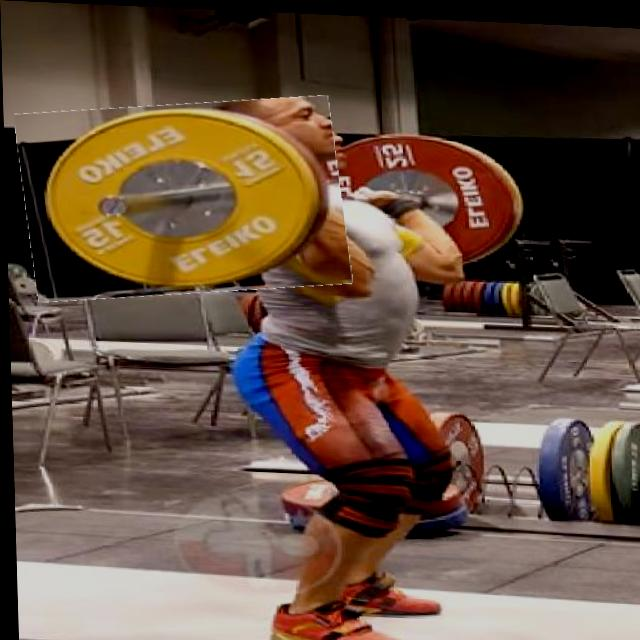barbell: (18, 91, 348, 306)
